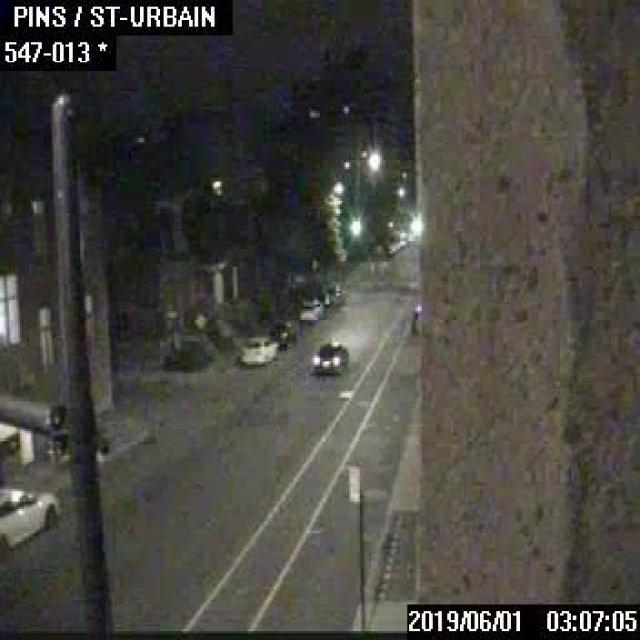vehicle: (0, 482, 60, 560), (238, 334, 277, 365), (313, 340, 347, 373), (266, 318, 294, 346), (317, 281, 343, 304), (298, 300, 323, 319), (410, 302, 420, 339)
